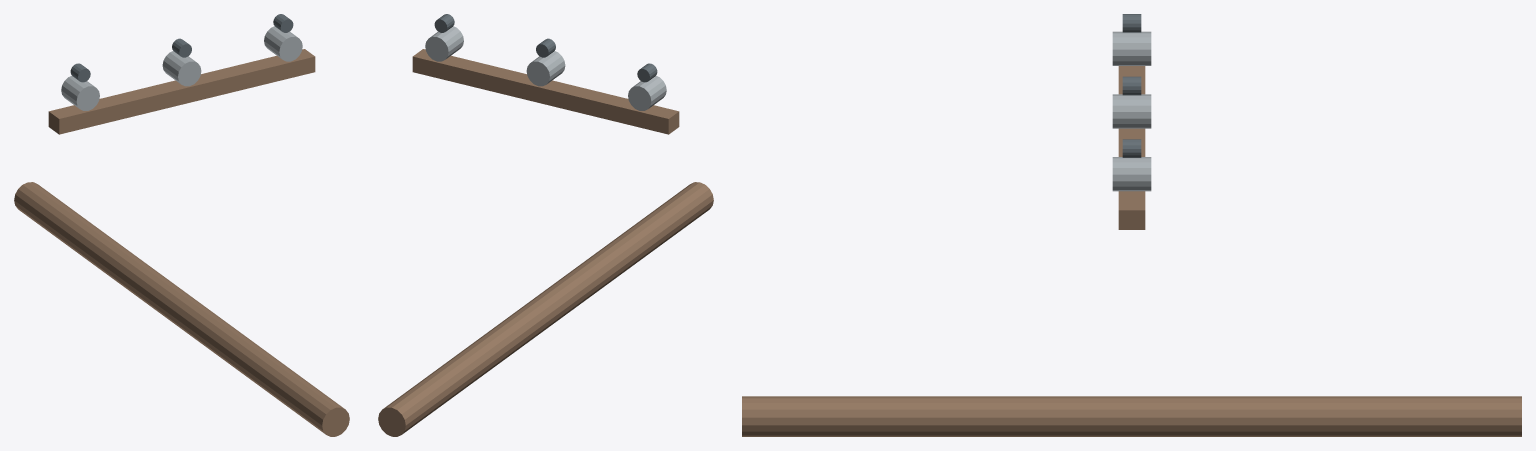
Rendered from power_pole.glb.
The picture shows the model from 3 angles, left to right: view 1: azimuth 30°, elevation 25°; view 2: azimuth 150°, elevation 25°; view 3: azimuth 270°, elevation 25°; orthographic projection. The views are drawn at different scales.
Parts seen in each view (by area): view 1: part_0, part_1, part_4, part_6, part_2; view 2: part_0, part_1, part_4, part_6, part_2; view 3: part_0, part_1, part_4, part_2, part_6.
Boxes of the visible parts, bbox=[...] form: part_0: bbox=[14, 182, 349, 436]; part_1: bbox=[48, 49, 315, 134]; part_4: bbox=[162, 51, 201, 86]; part_6: bbox=[264, 26, 302, 61]; part_2: bbox=[61, 75, 99, 110]; part_0: bbox=[378, 182, 713, 436]; part_1: bbox=[412, 49, 679, 134]; part_4: bbox=[526, 51, 565, 86]; part_6: bbox=[425, 26, 463, 61]; part_2: bbox=[628, 75, 666, 110]; part_0: bbox=[742, 396, 1521, 436]; part_1: bbox=[1118, 66, 1145, 229]; part_4: bbox=[1112, 94, 1151, 128]; part_2: bbox=[1112, 31, 1151, 65]; part_6: bbox=[1112, 157, 1151, 191].
Bounding box in the file's own units: 2.4 × 2.53 × 5.
